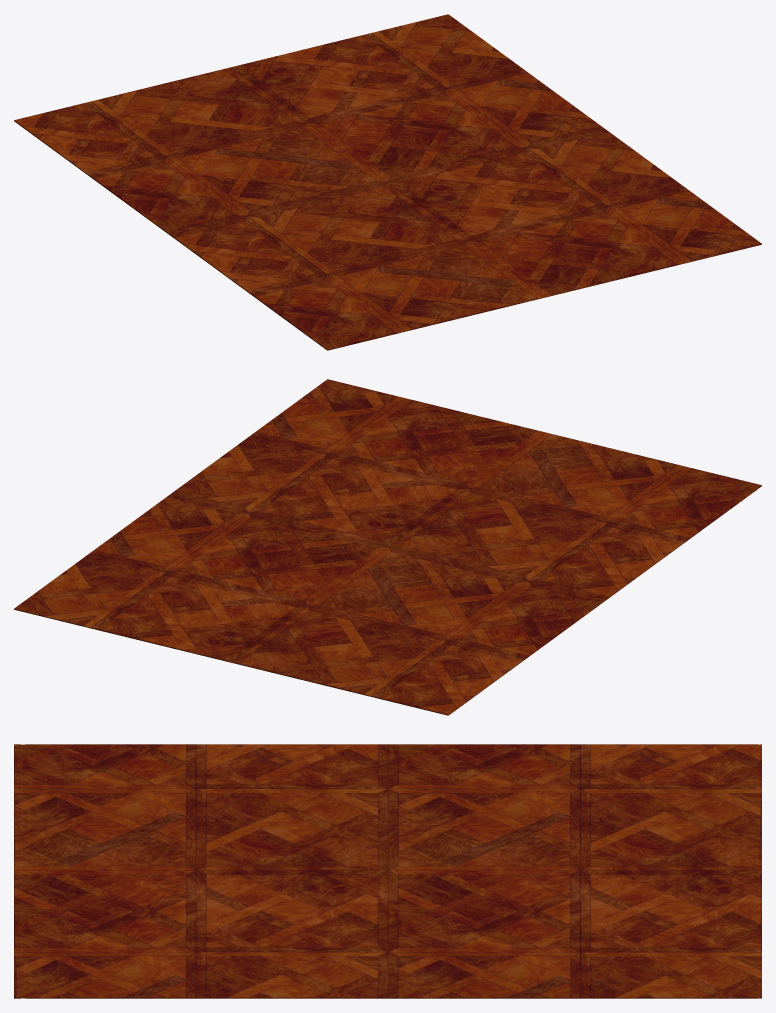
Rendered from Project Name.gltf.
The picture shows the model from 3 angles, top to bottom: view 1: azimuth 30°, elevation 25°; view 2: azimuth 150°, elevation 25°; view 3: azimuth 270°, elevation 25°; orthographic projection. The views are drawn at different scales.
Parts seen in each view (by area): view 1: 51072_StrellaRug_Grey; view 2: 51072_StrellaRug_Grey; view 3: 51072_StrellaRug_Grey.
Boxes of the visible parts, <box> form: 51072_StrellaRug_Grey: <box>14,14,761,350</box>; 51072_StrellaRug_Grey: <box>14,379,761,715</box>; 51072_StrellaRug_Grey: <box>14,744,761,998</box>.
Bounding box in the file's own units: 2.44 × 0.00716 × 3.05.
Materials: 1 (1 with a texture image).
